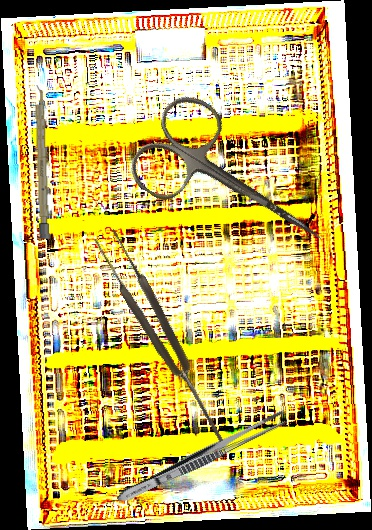Dressing Forceps: (114, 407, 288, 509)
Iris Scissors: (122, 85, 349, 286)
Scalpel Handle: (34, 84, 50, 240)
Tissue Forceps: (92, 226, 233, 450)
